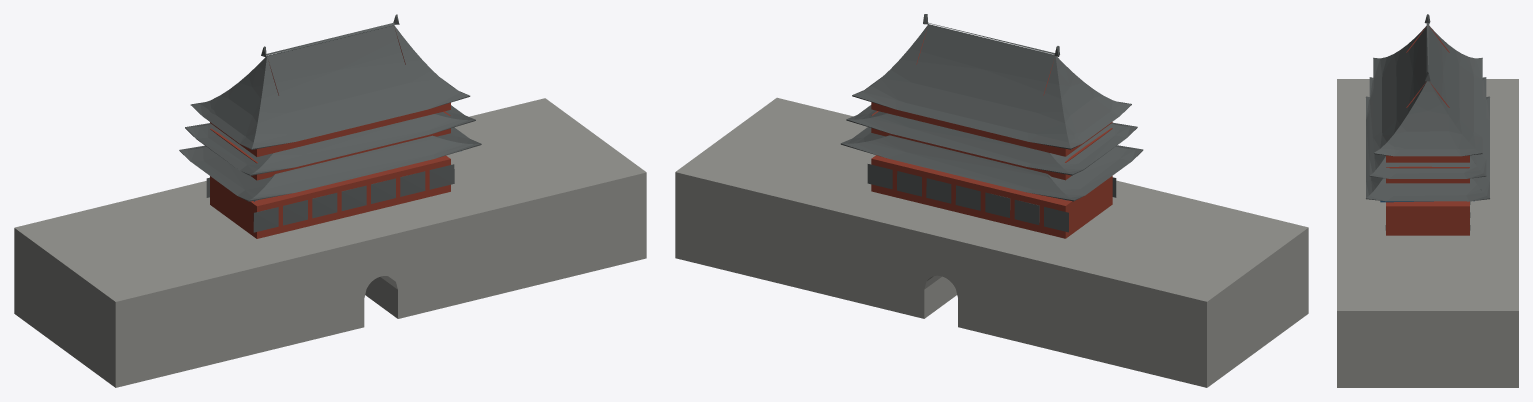
The model's file is zhengyangmen-far-f00cfa9cfa.glb.
3 views of the same model, side by side, from view 1: azimuth 30°, elevation 25°; view 2: azimuth 150°, elevation 25°; view 3: azimuth 270°, elevation 25° (orthographic). The views are drawn at different scales.
Parts seen in each view (by area): view 1: zhengyangmen coarse.001; view 2: zhengyangmen coarse.001; view 3: zhengyangmen coarse.001.
Part boxes in pixels (x1=…): zhengyangmen coarse.001: x1=14, y1=14, x2=646, y2=387; zhengyangmen coarse.001: x1=675, y1=14, x2=1308, y2=387; zhengyangmen coarse.001: x1=1337, y1=14, x2=1518, y2=387.
Bounding box in the file's own units: 95 × 43.65 × 31.45.
